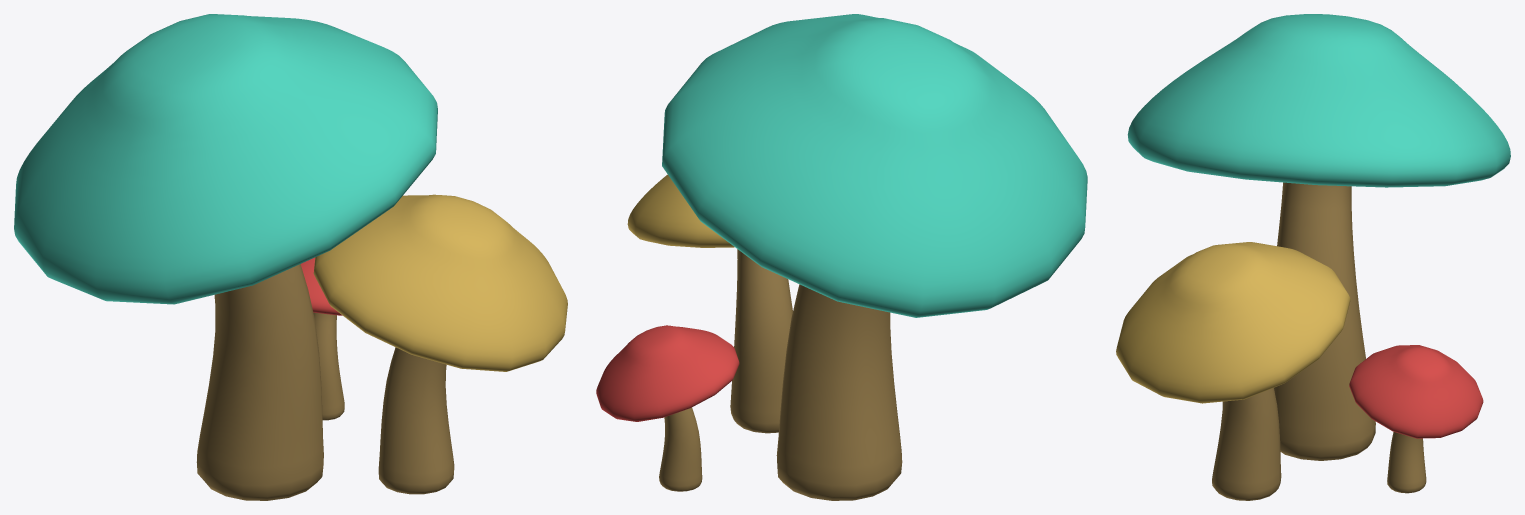
The model's file is fungo.fbx.
3 renders of one model, left to right at view 1: azimuth 30°, elevation 25°; view 2: azimuth 150°, elevation 25°; view 3: azimuth 270°, elevation 25°, orthographic. The views are drawn at different scales.
Visible parts, largest first — view 1: gruppo funghi; view 2: gruppo funghi; view 3: gruppo funghi.
Part boxes in pixels (bbox=[...]): gruppo funghi: bbox=[14, 14, 567, 500]; gruppo funghi: bbox=[596, 14, 1087, 500]; gruppo funghi: bbox=[1116, 14, 1510, 500].
Size of the model in its own units: 103 by 98.76 by 86.7.
